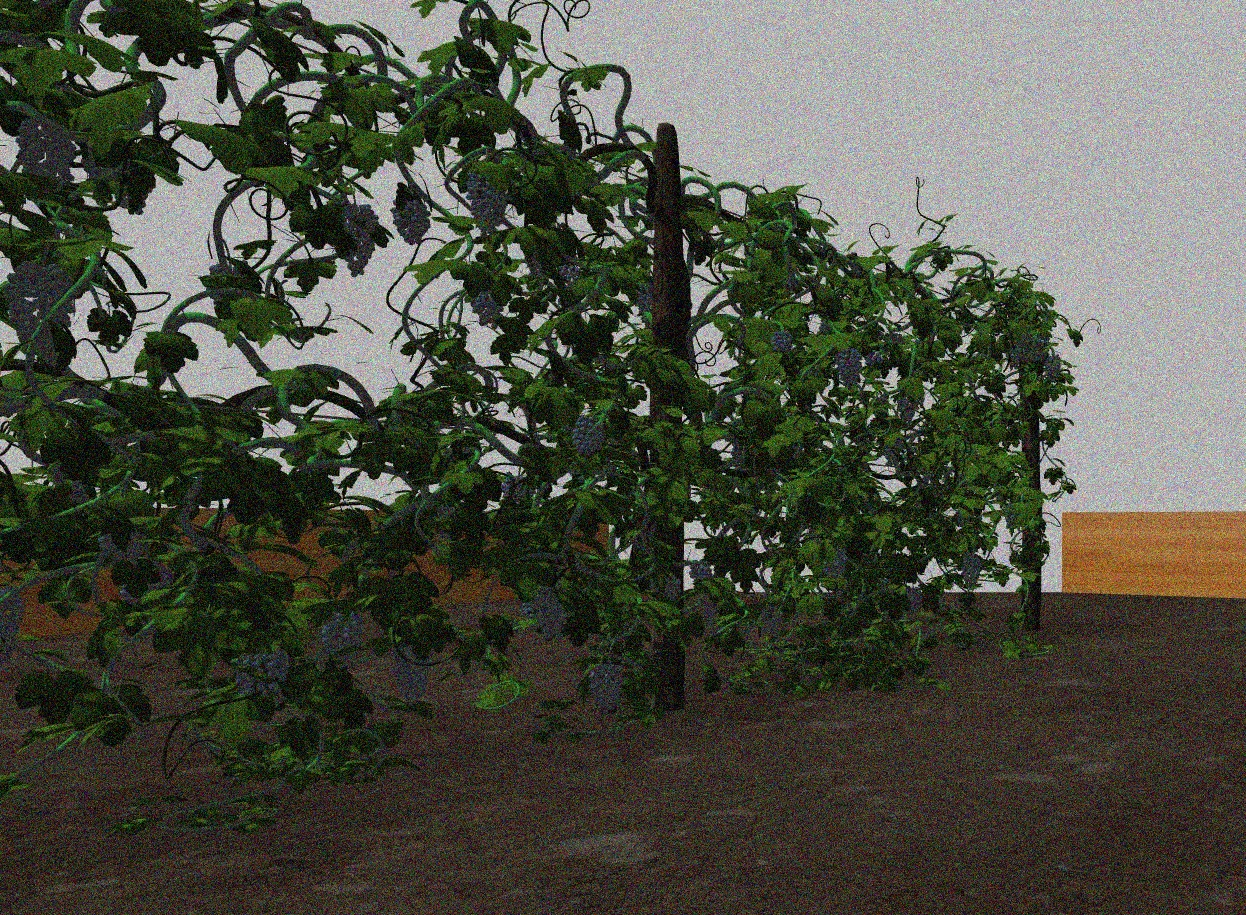grape: (5, 261, 73, 345), (15, 116, 77, 183), (338, 201, 379, 277), (232, 651, 291, 701), (466, 167, 507, 234), (393, 644, 434, 708), (320, 608, 365, 664), (530, 584, 568, 639), (1, 586, 27, 663), (390, 198, 432, 244), (589, 661, 625, 711), (467, 281, 505, 326), (98, 530, 144, 565), (572, 414, 606, 456), (839, 349, 863, 390), (650, 572, 681, 600), (760, 605, 784, 639), (824, 547, 848, 579), (961, 555, 981, 588), (903, 586, 923, 618), (1013, 330, 1032, 362), (770, 330, 793, 353), (689, 559, 713, 581), (636, 285, 652, 314), (1033, 335, 1050, 361), (1044, 355, 1060, 379), (865, 351, 883, 369)
